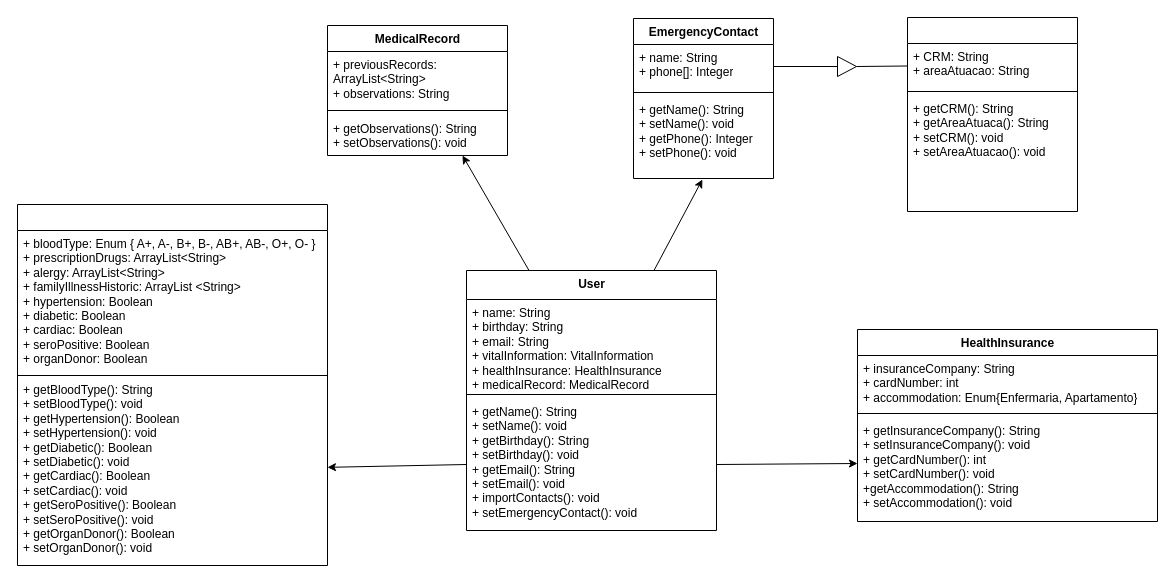
This 1175x585 diagram has some shape labels left out. The shapes that lost their labels are listed below. From the top down, each one's box as (x1, y1, x2, y2) in pixels, then its label:
(906, 16, 1078, 212): Medic
(16, 204, 328, 566): VitalInformation
